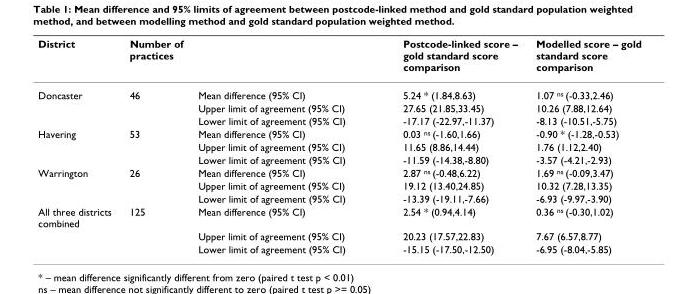table: (37, 37, 640, 254)
table column: (189, 37, 373, 254), (373, 37, 526, 254), (526, 37, 640, 254), (37, 37, 119, 254), (119, 37, 189, 254)
table column header: (37, 37, 640, 80)
table row: (37, 37, 640, 80), (37, 204, 640, 229), (37, 80, 640, 101), (37, 101, 640, 114), (37, 114, 640, 127), (37, 139, 640, 152), (37, 152, 640, 165), (37, 165, 640, 178), (37, 178, 640, 191), (37, 191, 640, 204), (37, 229, 640, 242), (37, 127, 640, 139), (37, 242, 640, 254)
table spanning cell: (37, 204, 119, 254), (37, 80, 119, 127), (37, 165, 119, 204), (37, 127, 119, 165)
